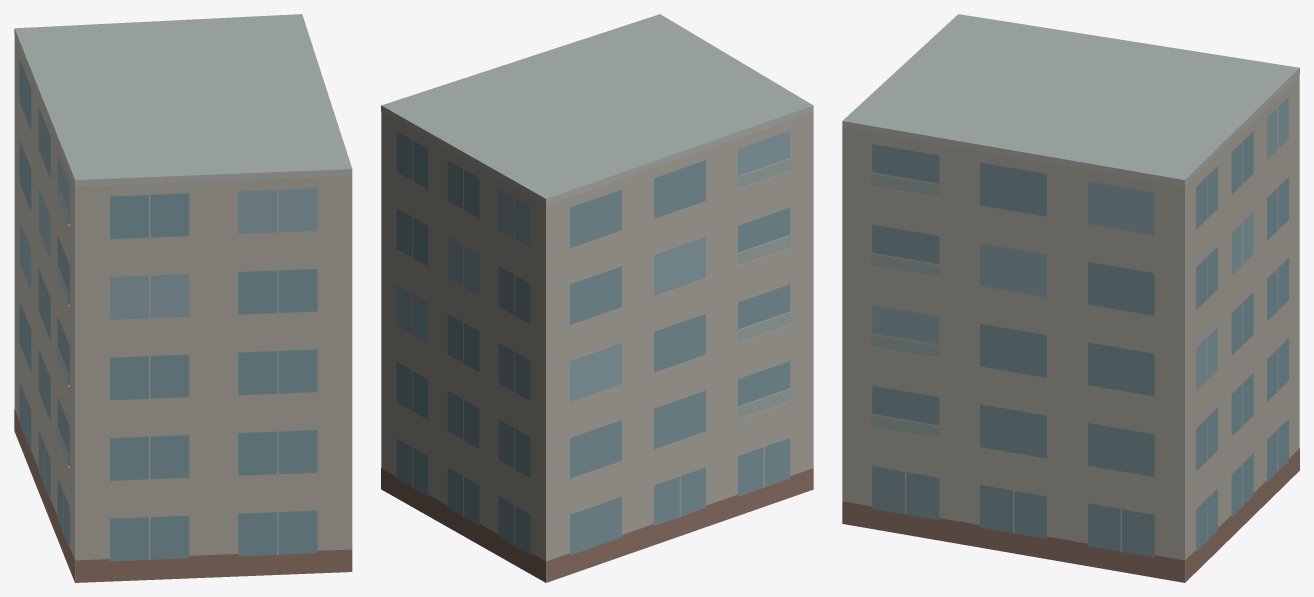
The model's file is survey-upis-32971773.glb.
The picture shows the model from 3 angles, left to right: view 1: azimuth 30°, elevation 25°; view 2: azimuth 150°, elevation 25°; view 3: azimuth 270°, elevation 25°; orthographic projection. The views are drawn at different scales.
Visible parts, largest first — view 1: survey-upis-32971773.tmp; view 2: survey-upis-32971773.tmp; view 3: survey-upis-32971773.tmp.
Boxes of the visible parts, x1,y1,x2,y2 form: survey-upis-32971773.tmp: (14, 14, 352, 582); survey-upis-32971773.tmp: (381, 14, 813, 582); survey-upis-32971773.tmp: (842, 14, 1299, 582).
Bounding box in the file's own units: 13.23 × 14.95 × 15.4.
